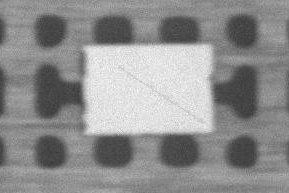DIE_CRACK: (177, 44, 289, 82)
